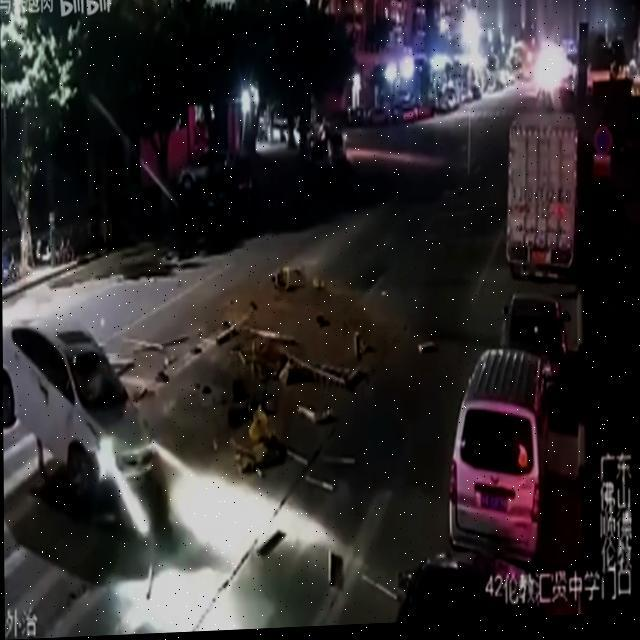single accident: (3, 307, 201, 550)
